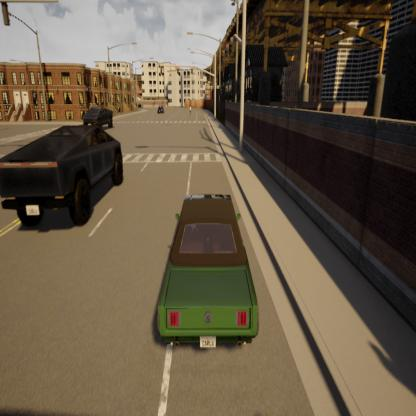Cars: (146, 185, 264, 359), (0, 121, 129, 232), (84, 102, 116, 131), (156, 104, 166, 115)
